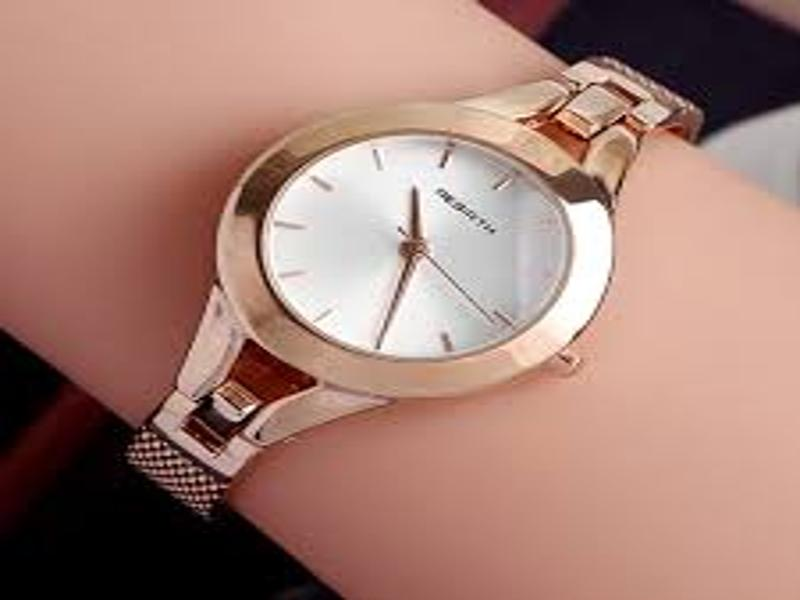watch: (125, 55, 704, 517)
